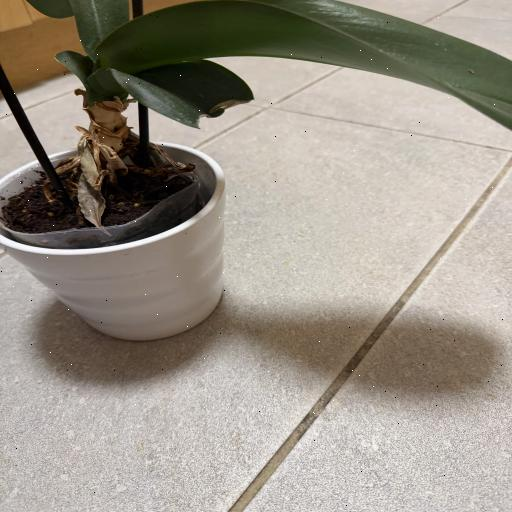Plant Pot: (0, 139, 227, 343)
